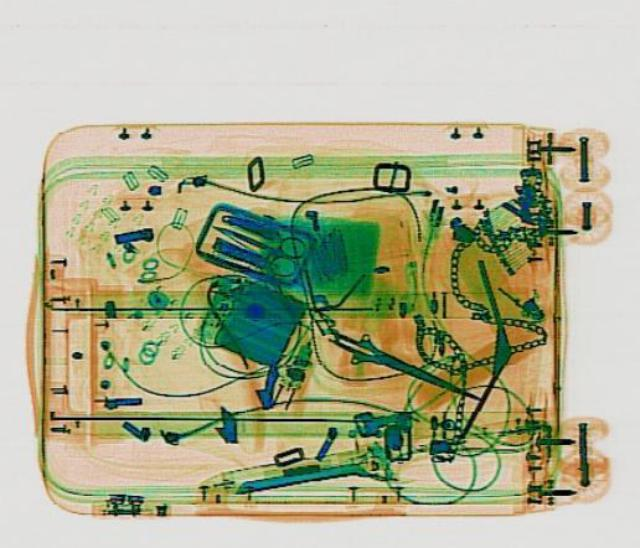Knife: (316, 319, 486, 411)
Scissors: (200, 204, 314, 276)
